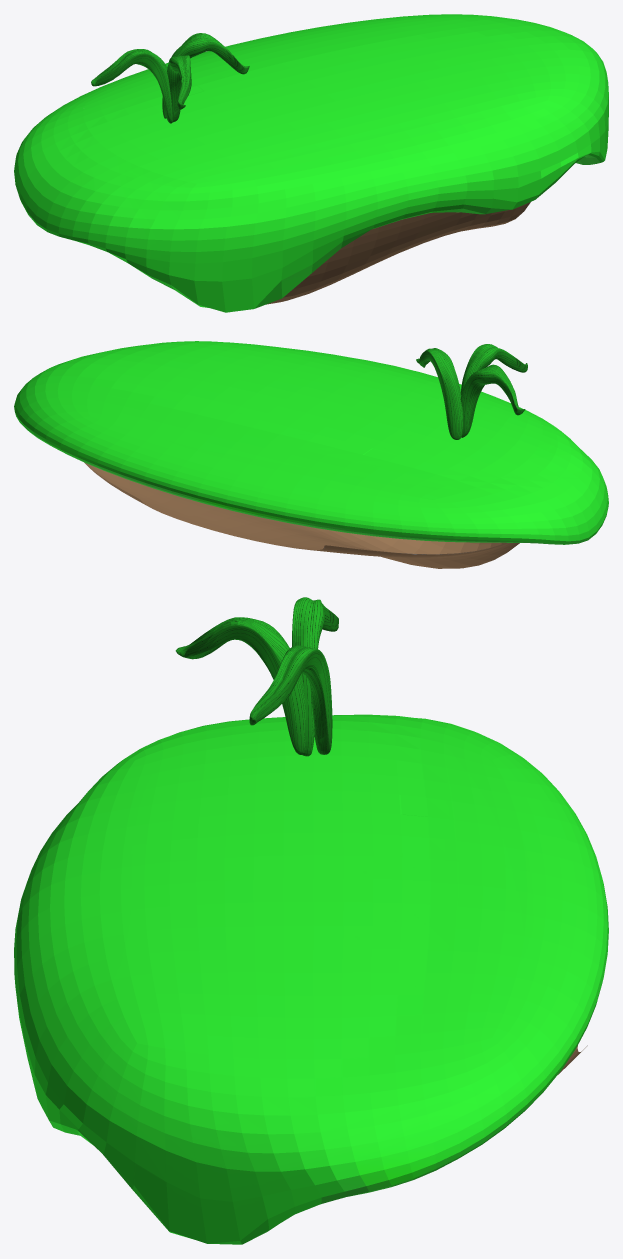
The model's file is PlatformSmall.fbx.
3 views of the same model, one above another, from view 1: azimuth 30°, elevation 25°; view 2: azimuth 150°, elevation 25°; view 3: azimuth 270°, elevation 25° (orthographic). The views are drawn at different scales.
Visible parts, largest first — view 1: cimgovde, Toprak, ot; view 2: cimgovde, Toprak, ot; view 3: cimgovde, ot.
Part boxes in pixels (x1,y1,x2,y2): cimgovde: [14, 14, 608, 312]; Toprak: [266, 202, 530, 304]; ot: [91, 33, 249, 123]; cimgovde: [14, 341, 608, 544]; Toprak: [84, 462, 519, 568]; ot: [416, 344, 527, 439]; cimgovde: [14, 714, 608, 1244]; ot: [175, 597, 338, 756].
Bounding box in the file's own units: 323 × 134 × 181.
4 materials, 4 textured.
